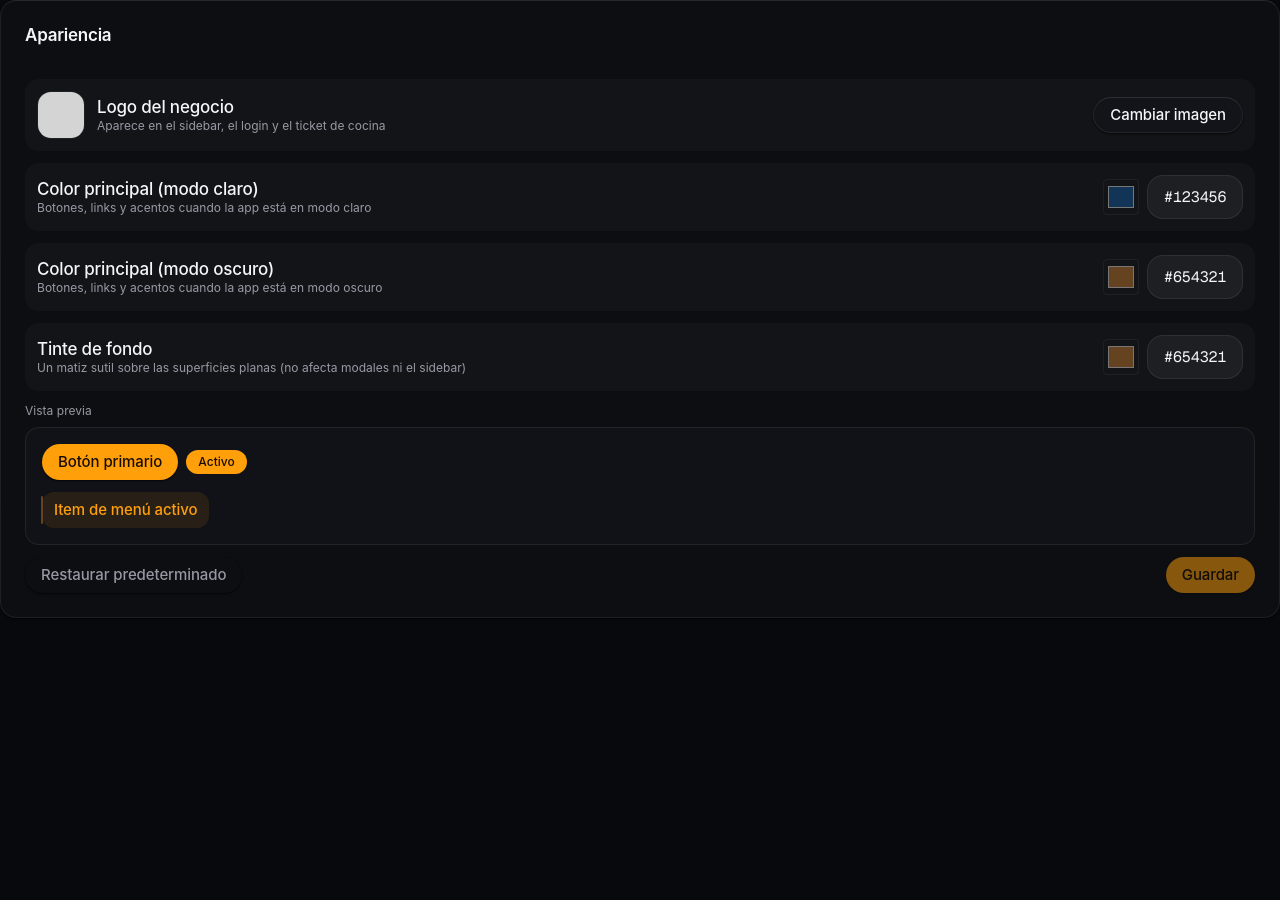
it: AparienciaCard › "Restaurar predeterminado" resets the draft to DEFAULT_APP_SETTINGS values
Step 1. Click the button "Restaurar predeterminado" → point(134, 575), box [25,557,242,593]
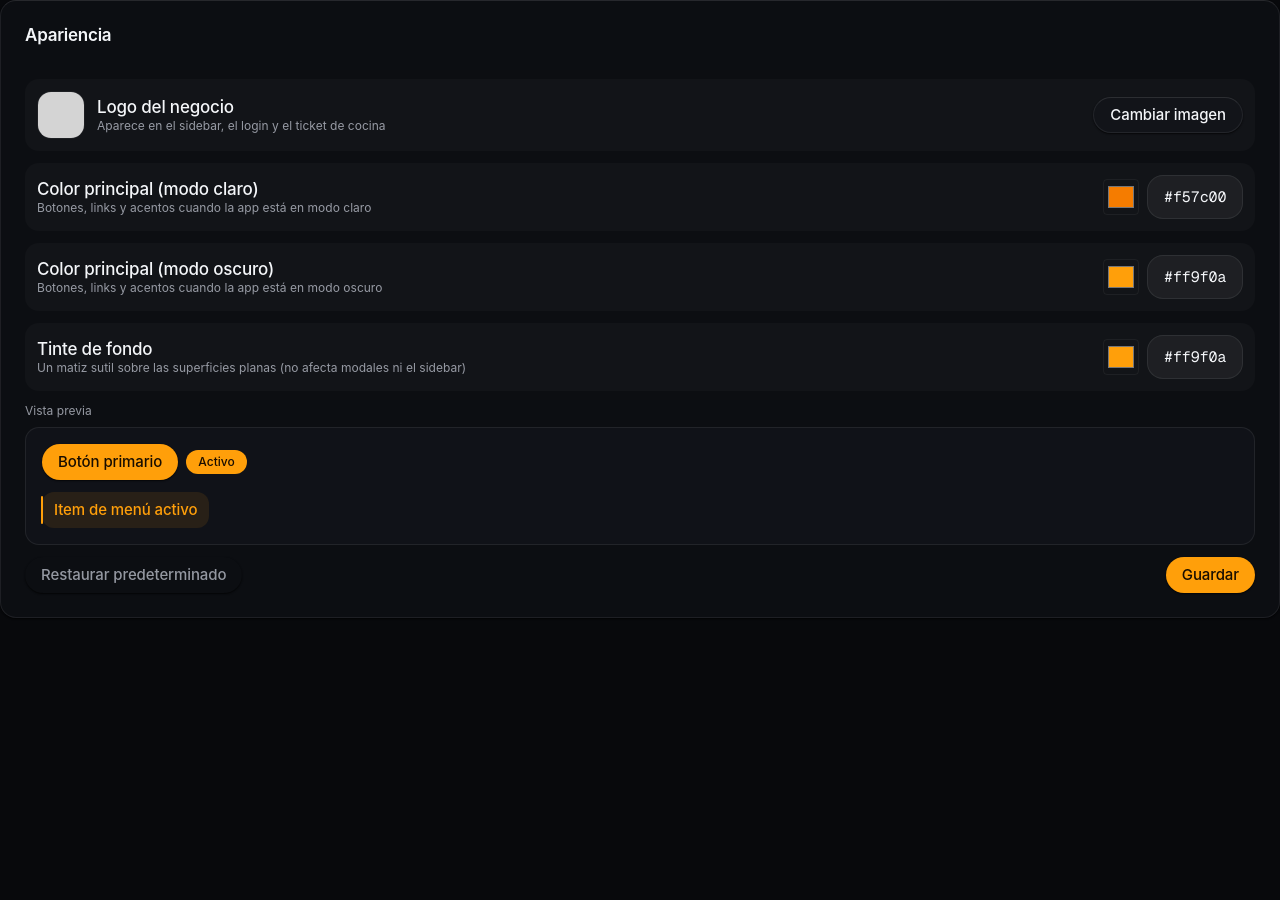
Check: the colour field named "Color principal, modo claro" holds "#f57c00", box [1103,179,1139,215]
Check: the colour field named "Color principal, modo oscuro" holds "#ff9f0a", box [1103,259,1139,295]
